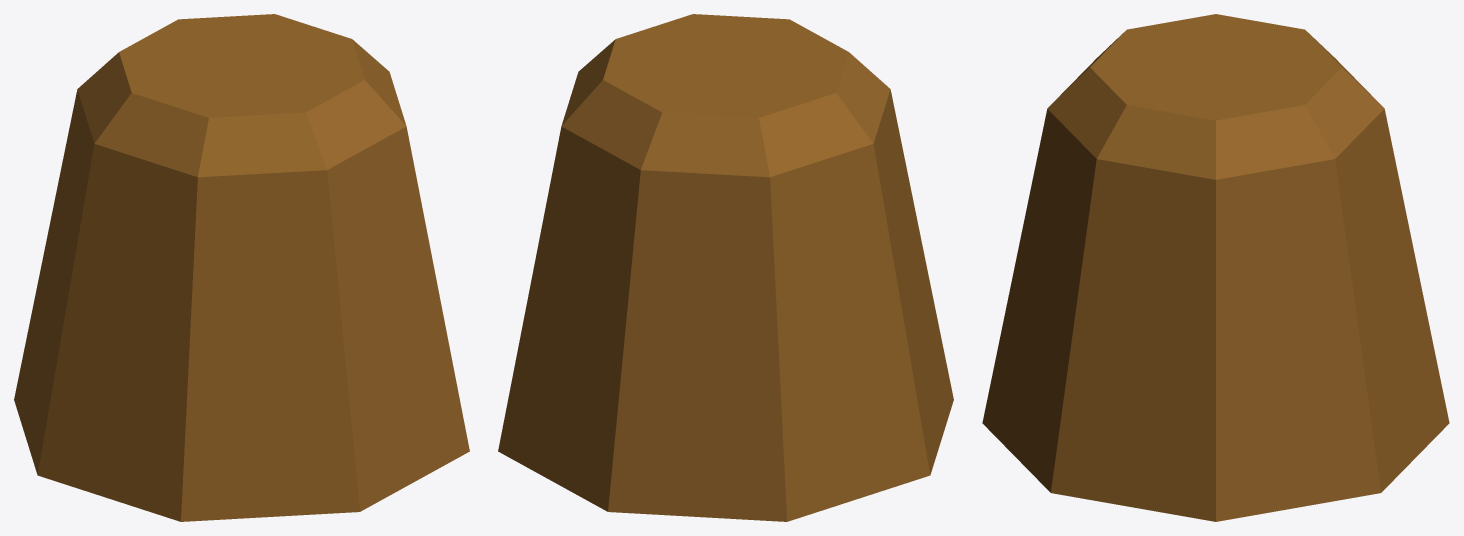
The model's file is Small_sand_mountain.glb.
The picture shows the model from 3 angles, left to right: view 1: azimuth 30°, elevation 25°; view 2: azimuth 150°, elevation 25°; view 3: azimuth 270°, elevation 25°; orthographic projection.
Visible parts, largest first — view 1: smallsandmountain; view 2: smallsandmountain; view 3: smallsandmountain.
Part boxes in pixels (<box>): smallsandmountain: <box>14,14,469,521</box>; smallsandmountain: <box>498,14,953,521</box>; smallsandmountain: <box>982,14,1449,521</box>.
Bounding box in the file's own units: 4.83 × 4.06 × 4.83.
